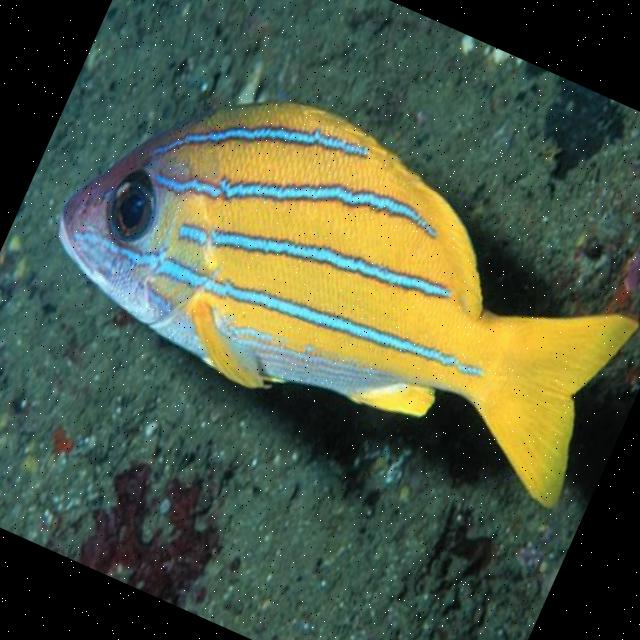ikan: (24, 25, 640, 527)
